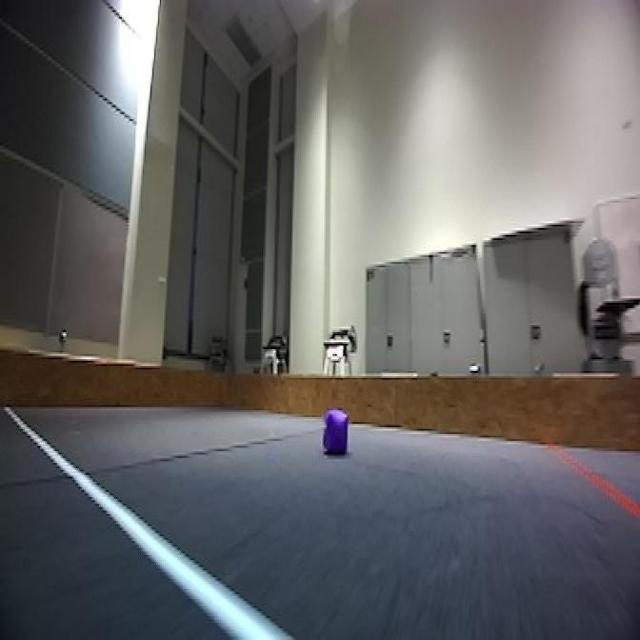frc_cube: (320, 403, 351, 458)
